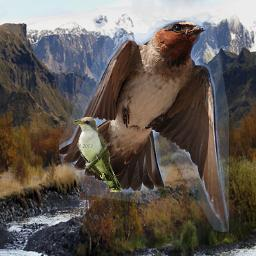Cuckoo: (73, 116, 121, 192)
Swallow: (59, 20, 229, 232)
